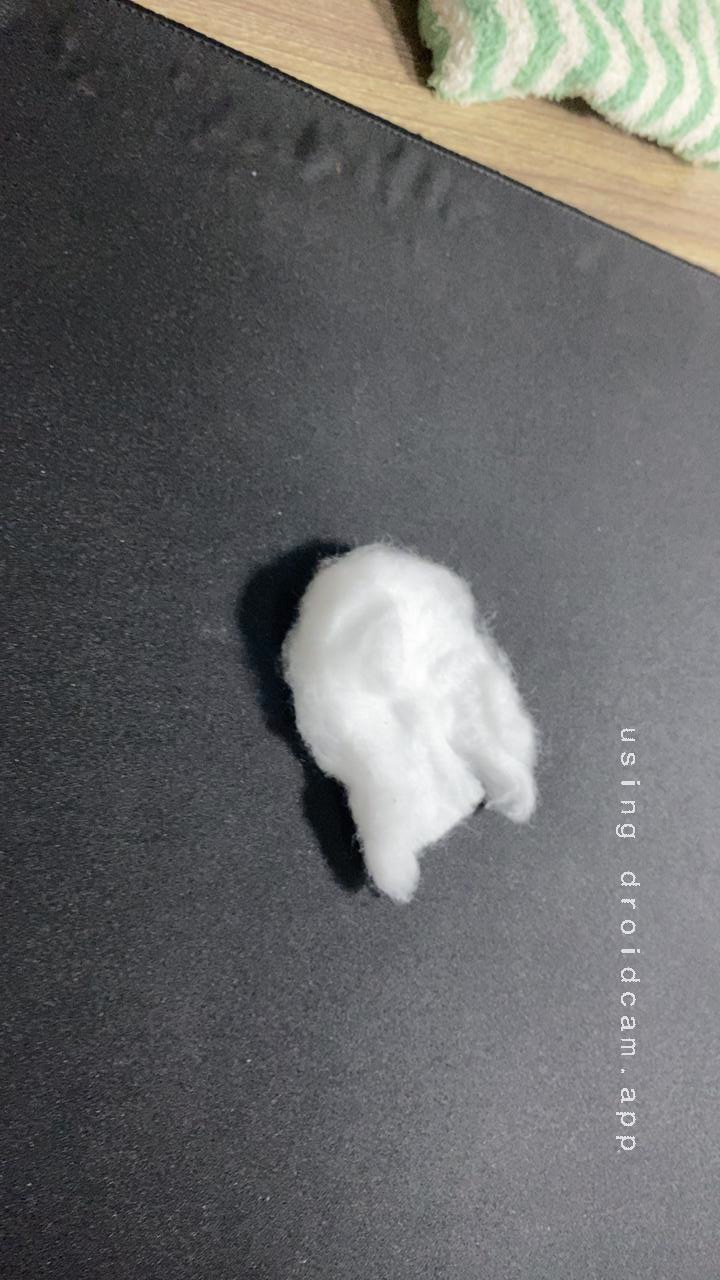cotton: (229, 524, 573, 927)
